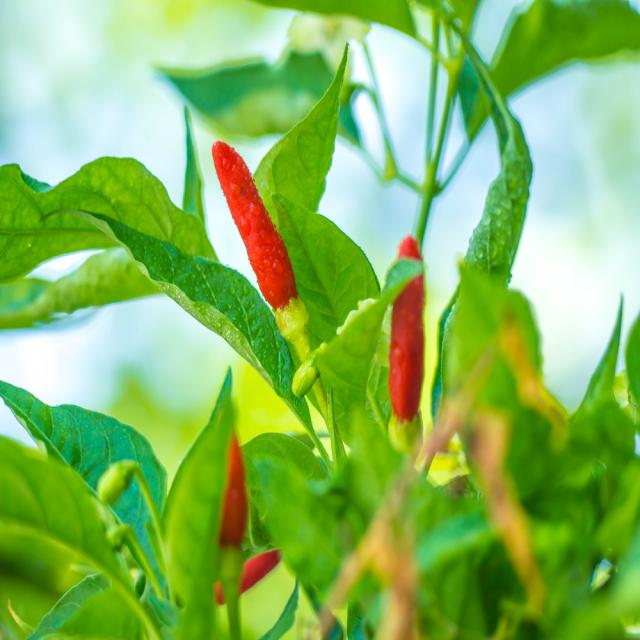Ripe: (212, 142, 298, 310), (387, 276, 427, 424)
